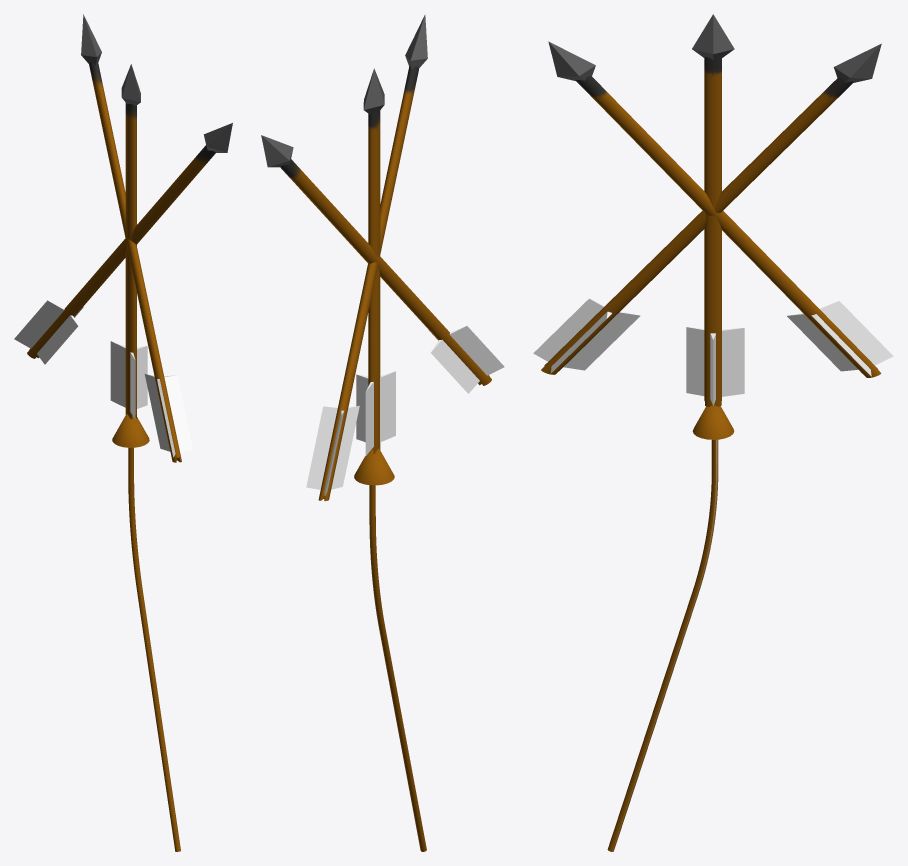
The model's file is Rapid Fire Balloon.fbx.
3 views of the same model, side by side, from view 1: azimuth 30°, elevation 25°; view 2: azimuth 150°, elevation 25°; view 3: azimuth 270°, elevation 25° (orthographic). The views are drawn at different scales.
Parts seen in each view (by area): view 1: group1_pasted__pCube4; view 2: group1_pasted__pCube4; view 3: group1_pasted__pCube4.
Part boxes in pixels (left/top/right/bottom): group1_pasted__pCube4: left=14, top=14, right=232, bottom=851; group1_pasted__pCube4: left=261, top=14, right=504, bottom=851; group1_pasted__pCube4: left=533, top=14, right=893, bottom=851.
Bounding box in the file's own units: 17.79 × 179 × 69.93.
Materials: 1 (1 with a texture image).
